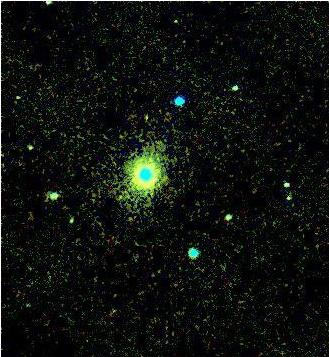star: (131, 103, 161, 133)
